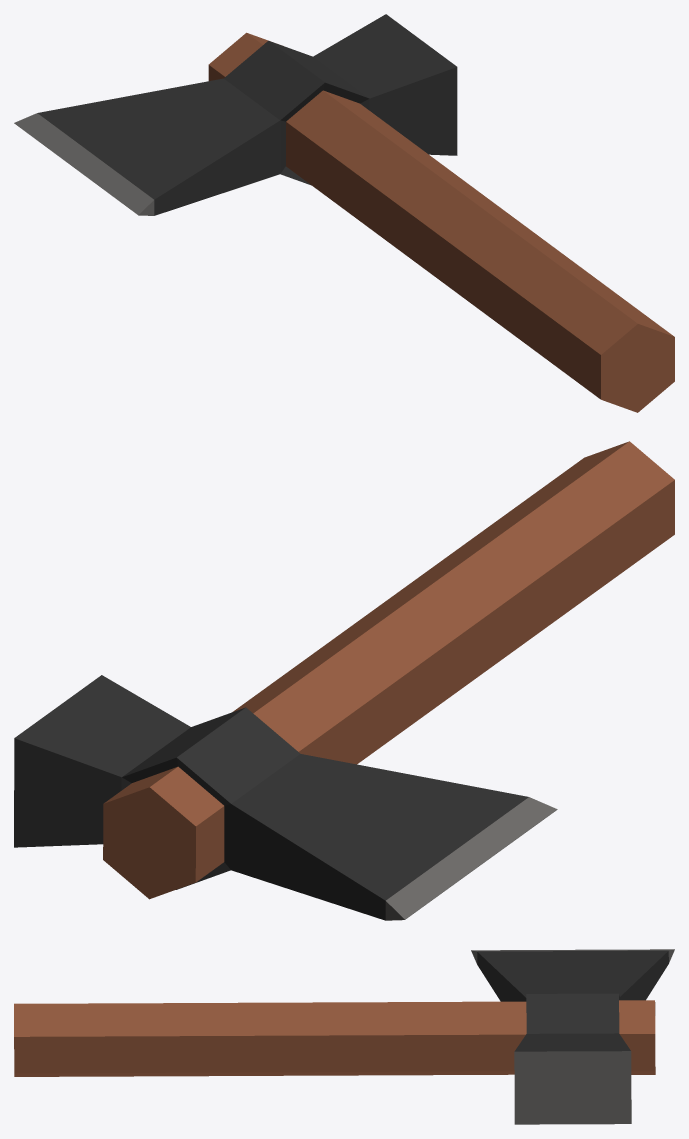
File: axe_for_meat.fbx
3 views of the same model, one above another, from view 1: azimuth 30°, elevation 25°; view 2: azimuth 150°, elevation 25°; view 3: azimuth 270°, elevation 25° (orthographic). The views are drawn at different scales.
Parts seen in each view (by area): view 1: ax_for_meat; view 2: ax_for_meat; view 3: ax_for_meat.
Part boxes in pixels (<box>): ax_for_meat: <box>14,14,674,412</box>; ax_for_meat: <box>14,441,674,920</box>; ax_for_meat: <box>14,949,674,1124</box>.
Size of the model in its own units: 12.32 by 3.7 by 24.95.
